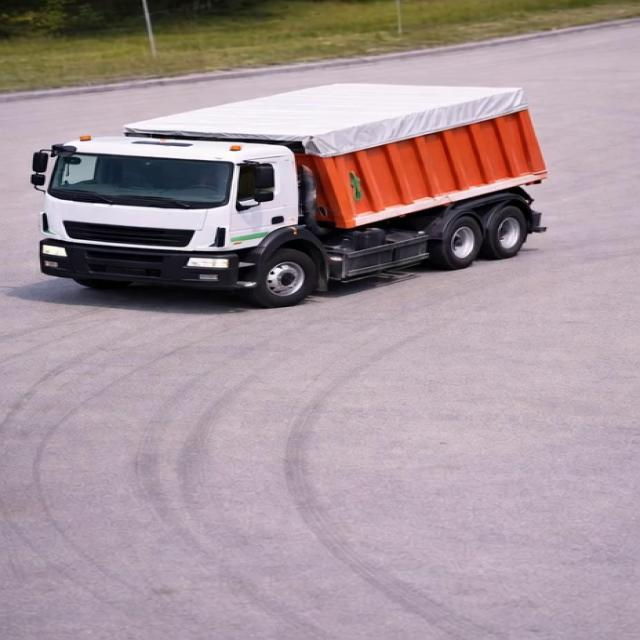trailer: (123, 81, 540, 149)
truck: (17, 58, 567, 295)
